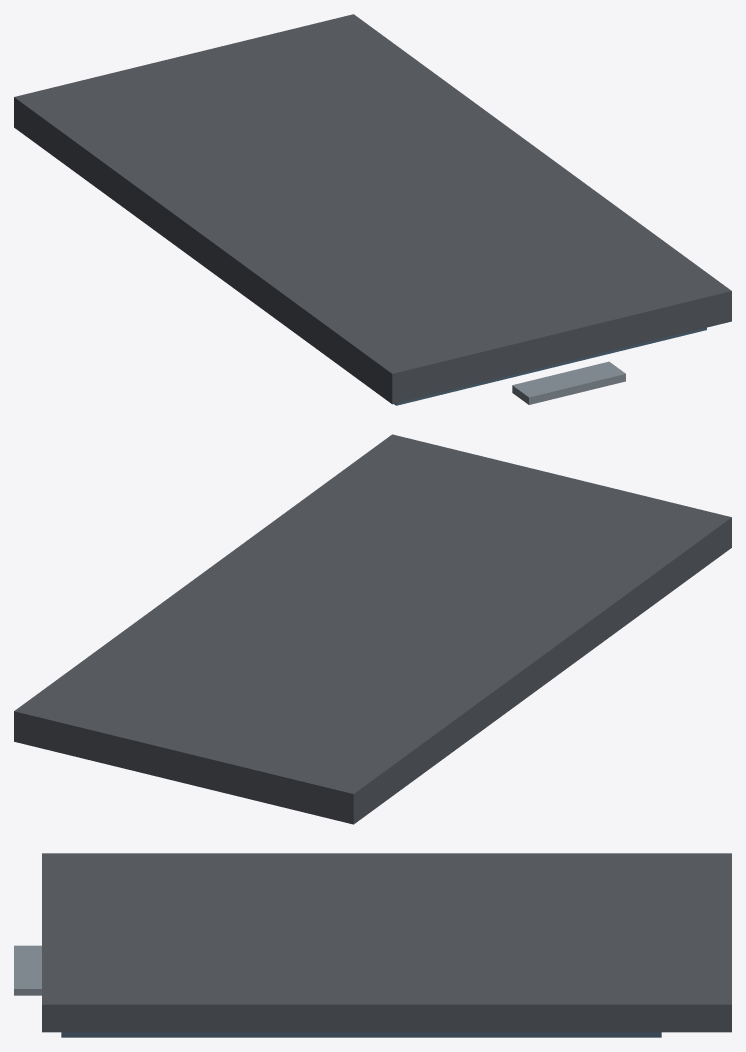
The model's file is smartphone.glb.
3 renders of one model, top to bottom at view 1: azimuth 30°, elevation 25°; view 2: azimuth 150°, elevation 25°; view 3: azimuth 270°, elevation 25°, orthographic. The views are drawn at different scales.
Visible parts, largest first — view 1: smartphone_0, smartphone_2, smartphone_1; view 2: smartphone_0; view 3: smartphone_0, smartphone_1, smartphone_2.
Part boxes in pixels (x1,y1,x2,y2): smartphone_0: [14, 14, 731, 404]; smartphone_2: [512, 361, 625, 404]; smartphone_1: [394, 327, 706, 405]; smartphone_0: [14, 434, 731, 824]; smartphone_0: [42, 853, 731, 1032]; smartphone_1: [61, 1032, 661, 1037]; smartphone_2: [14, 945, 41, 995].
Bounding box in the file's own units: 0.14 × 0.0195 × 0.281.
